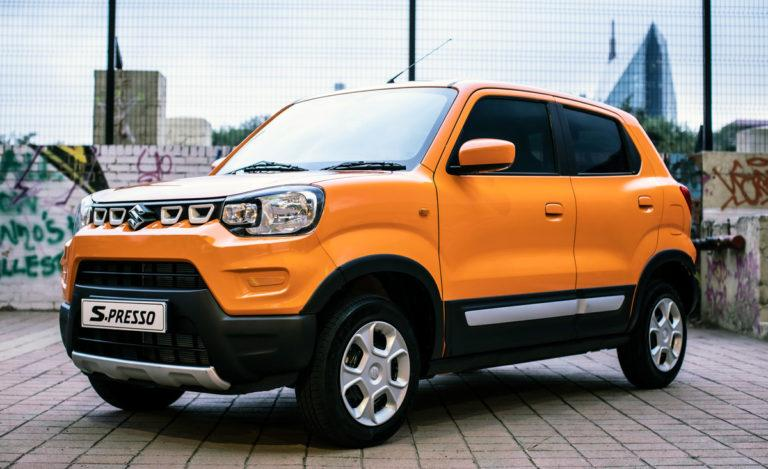windshield: (212, 85, 463, 174)
